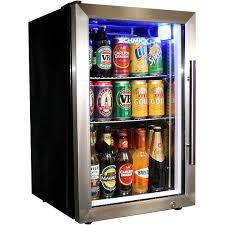beer: (89, 124, 166, 194), (88, 26, 163, 75), (88, 80, 166, 121)
